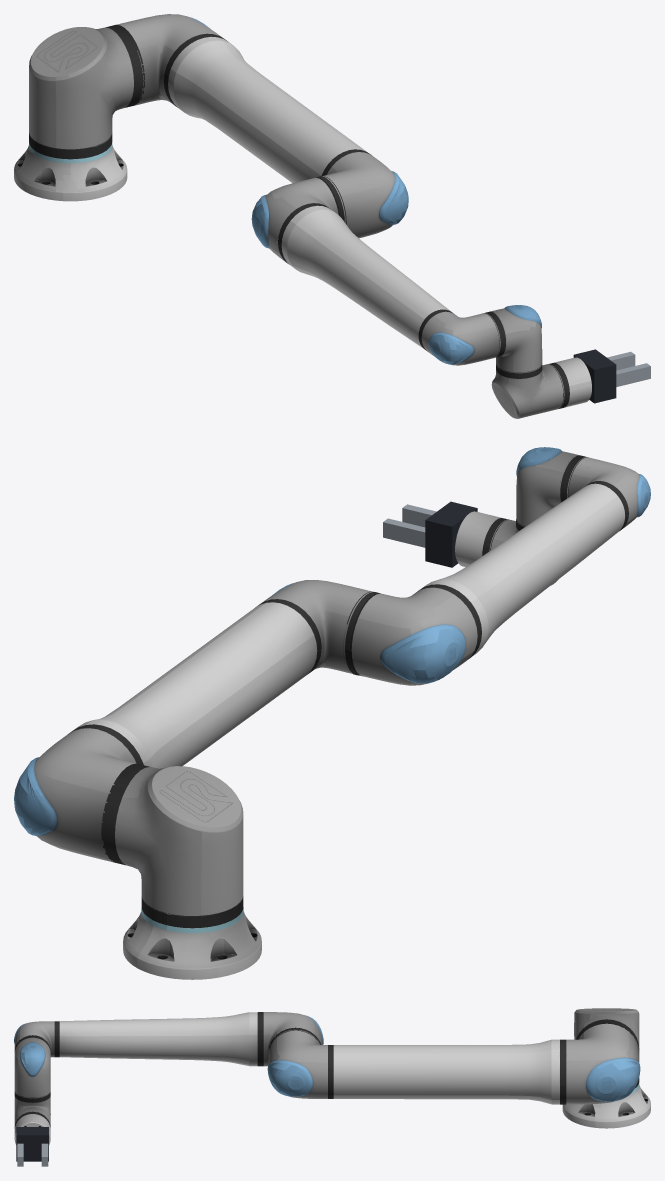
3 renders of one model, top to bottom at view 1: azimuth 30°, elevation 25°; view 2: azimuth 150°, elevation 25°; view 3: azimuth 270°, elevation 25°, orthographic. The views are drawn at different scales.
Visible parts, largest first — view 1: Surface_upperarm.001, Surface_shoulder.001, Surface_forearm, Surface_upperarm.002, Surface_forearm.002, Surface_base.002, Surface_wrist2, Surface_wrist1.001, Surface_forearm.001, CustomGripper, Surface_wrist3.001, Surface_shoulder (+5 smaller); view 2: Surface_upperarm.001, Surface_shoulder.001, Surface_upperarm.002, Surface_forearm, Surface_forearm.002, Surface_base.002, Surface_forearm.001, Surface_wrist1.001, Surface_upperarm.003, CustomGripper, Surface_shoulder, Surface_forearm.003 (+4 smaller); view 3: Surface_upperarm.001, Surface_forearm, Surface_upperarm.002, Surface_upperarm.003, Surface_base.002, Surface_forearm.002, Surface_wrist1.001, Surface_shoulder.001, CustomGripper, Surface_upperarm, Surface_forearm.003, Surface_wrist1 (+3 smaller).
Part boxes in pixels (left/top/right/bottom): Surface_upperarm.001: left=168, top=36, right=367, bottom=183; Surface_shoulder.001: left=29, top=27, right=133, bottom=149; Surface_forearm: left=281, top=205, right=451, bottom=348; Surface_upperarm.002: left=117, top=14, right=394, bottom=238; Surface_forearm.002: left=265, top=177, right=499, bottom=365; Surface_base.002: left=14, top=146, right=127, bottom=201; Surface_wrist2: left=491, top=364, right=564, bottom=418; Surface_wrist1.001: left=485, top=308, right=542, bottom=373; Surface_forearm.001: left=251, top=194, right=474, bottom=364; CustomGripper: left=573, top=349, right=616, bottom=403; Surface_wrist3.001: left=553, top=357, right=591, bottom=407; Surface_shoulder: left=30, top=24, right=144, bottom=149; Surface_upperarm.001: left=73, top=602, right=317, bottom=768; Surface_shoulder.001: left=115, top=766, right=243, bottom=915; Surface_upperarm.002: left=34, top=580, right=377, bottom=862; Surface_forearm: left=421, top=483, right=624, bottom=656; Surface_forearm.002: left=350, top=457, right=639, bottom=685; Surface_base.002: left=123, top=912, right=261, bottom=979; Surface_forearm.001: left=380, top=473, right=650, bottom=683; Surface_wrist1.001: left=516, top=451, right=586, bottom=527; Surface_upperarm.003: left=14, top=583, right=293, bottom=835; CustomGripper: left=425, top=501, right=477, bottom=567; Surface_shoulder: left=101, top=763, right=243, bottom=916; Surface_forearm.003: left=345, top=481, right=628, bottom=676; Surface_upperarm.001: left=333, top=1039, right=559, bottom=1104; Surface_forearm: left=59, top=1012, right=257, bottom=1066; Surface_upperarm.002: left=268, top=1023, right=639, bottom=1104; Surface_upperarm.003: left=267, top=1057, right=640, bottom=1101; Surface_base.002: left=562, top=1085, right=650, bottom=1128; Surface_forearm.002: left=14, top=1012, right=322, bottom=1066; Surface_wrist1.001: left=14, top=1035, right=50, bottom=1098; Surface_shoulder.001: left=574, top=1008, right=639, bottom=1062; CustomGripper: left=16, top=1127, right=48, bottom=1161; Surface_upperarm: left=328, top=1033, right=582, bottom=1104; Surface_forearm.003: left=54, top=1012, right=321, bottom=1066; Surface_wrist1: left=20, top=1042, right=45, bottom=1076.
Size of the model in its own units: 0.6278 by 0.333 by 1.77.
Materials: 3 (1 with a texture image).
